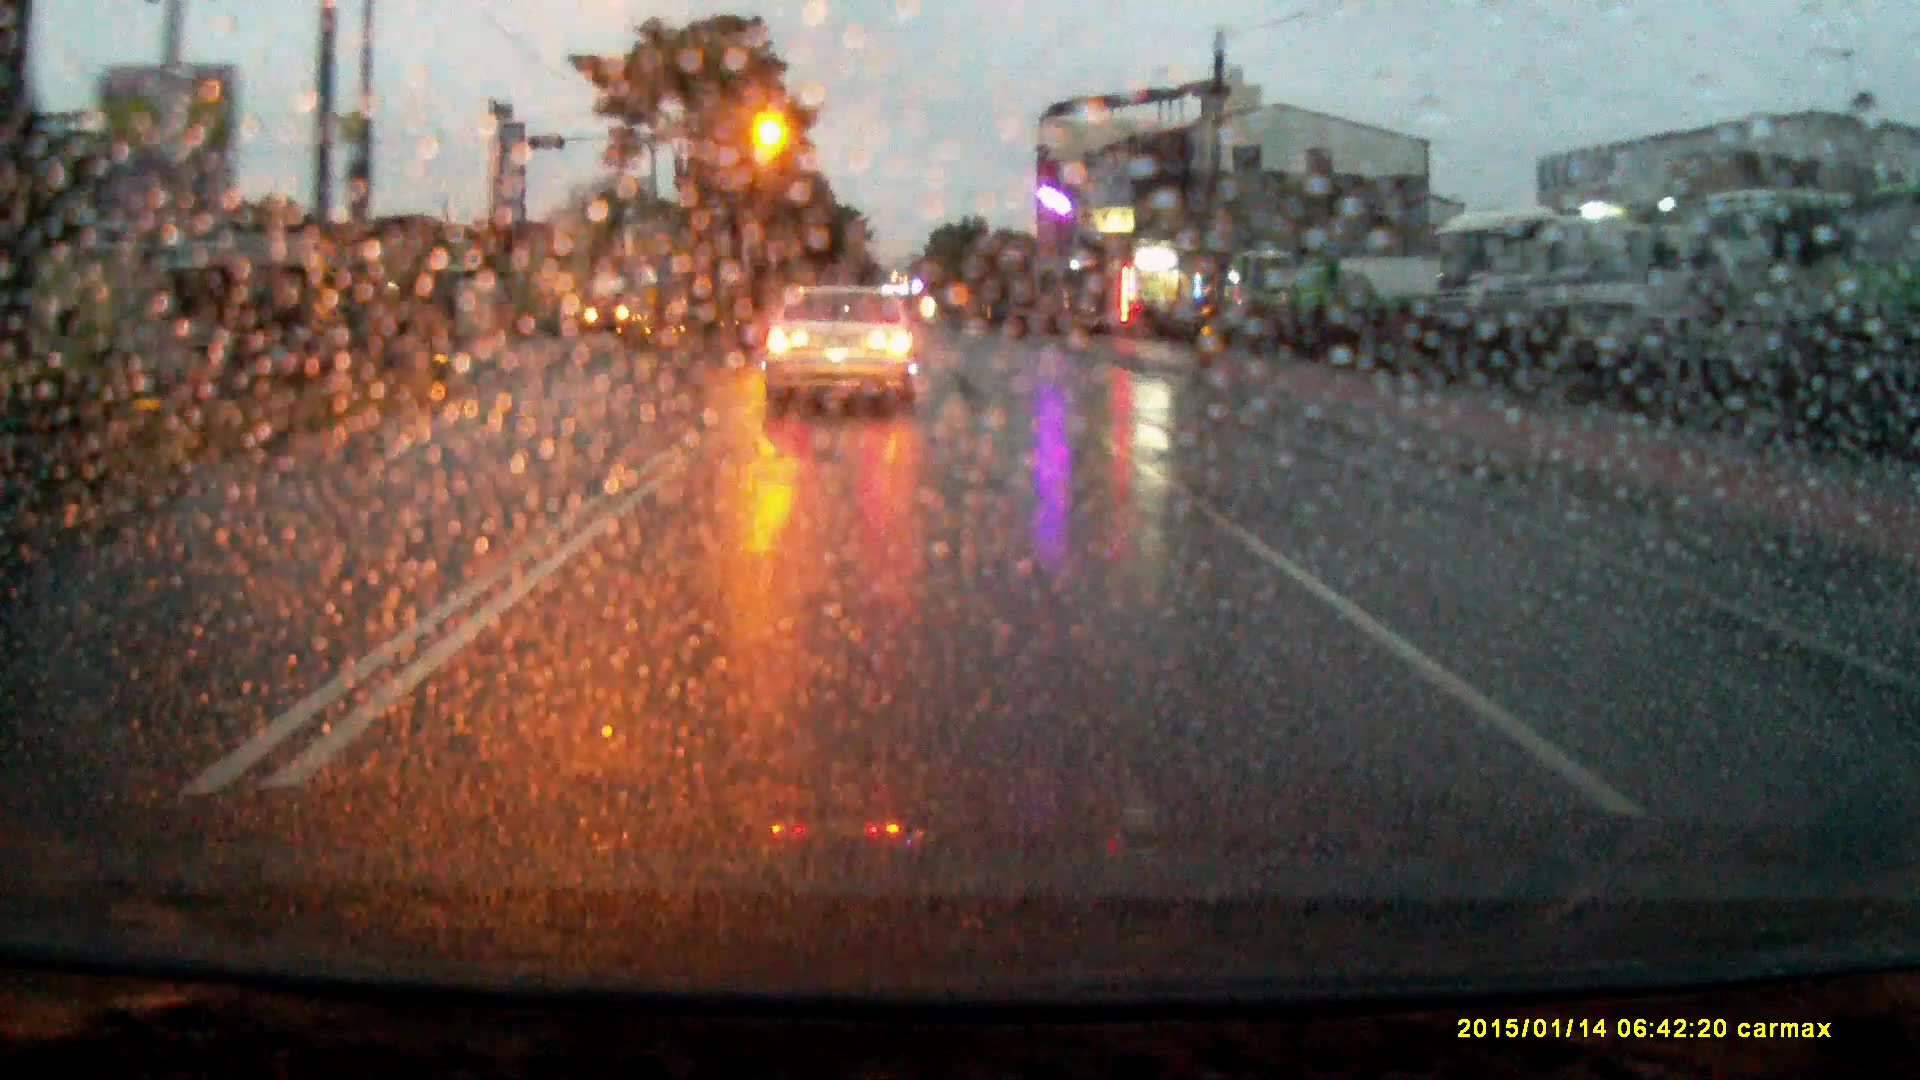vehicle: (1692, 185, 1850, 411), (1539, 222, 1704, 396), (762, 285, 922, 417), (1433, 208, 1548, 363), (1273, 255, 1447, 336), (1226, 247, 1299, 327), (587, 277, 646, 332)
